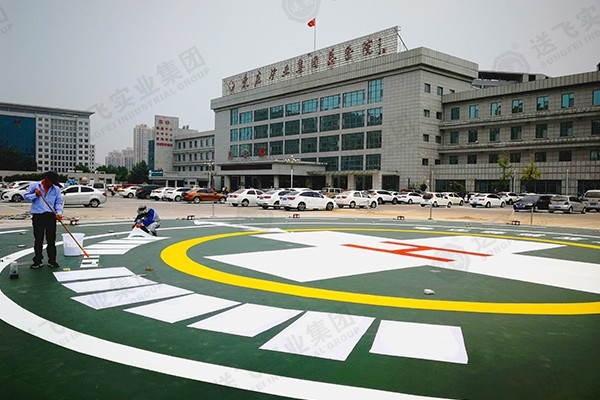H: (339, 240, 496, 265)
